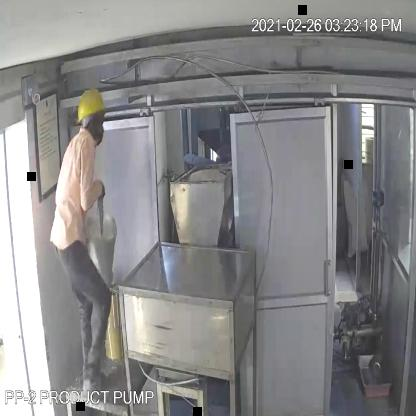helmet: (77, 86, 106, 122)
